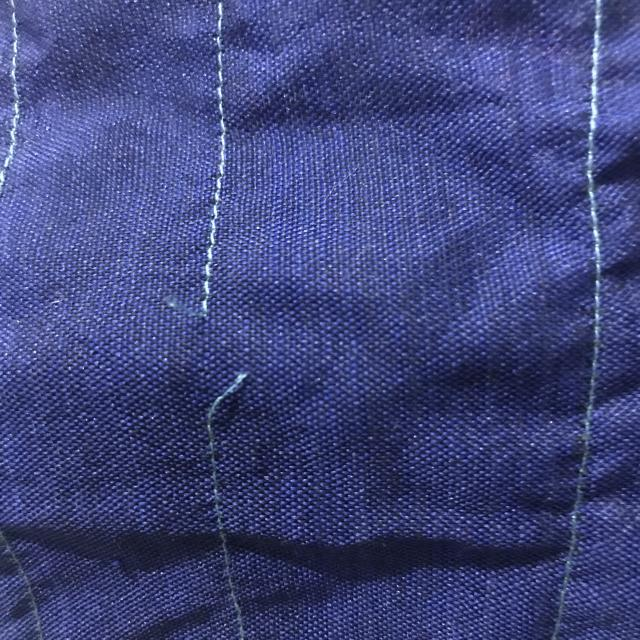broken: (162, 272, 271, 432)
good: (178, 103, 243, 230)
